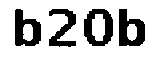0: (79, 4, 115, 50)
2: (47, 6, 81, 48)
b: (10, 4, 44, 51), (115, 4, 147, 53)
